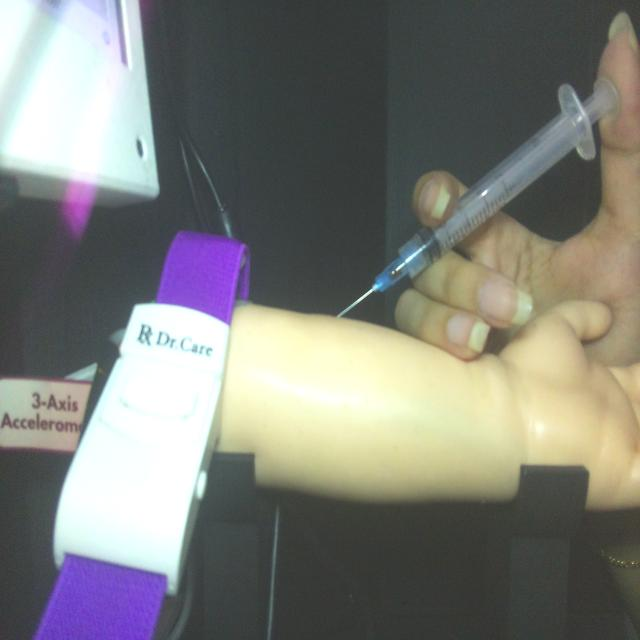30 degrees: (334, 71, 622, 321)
